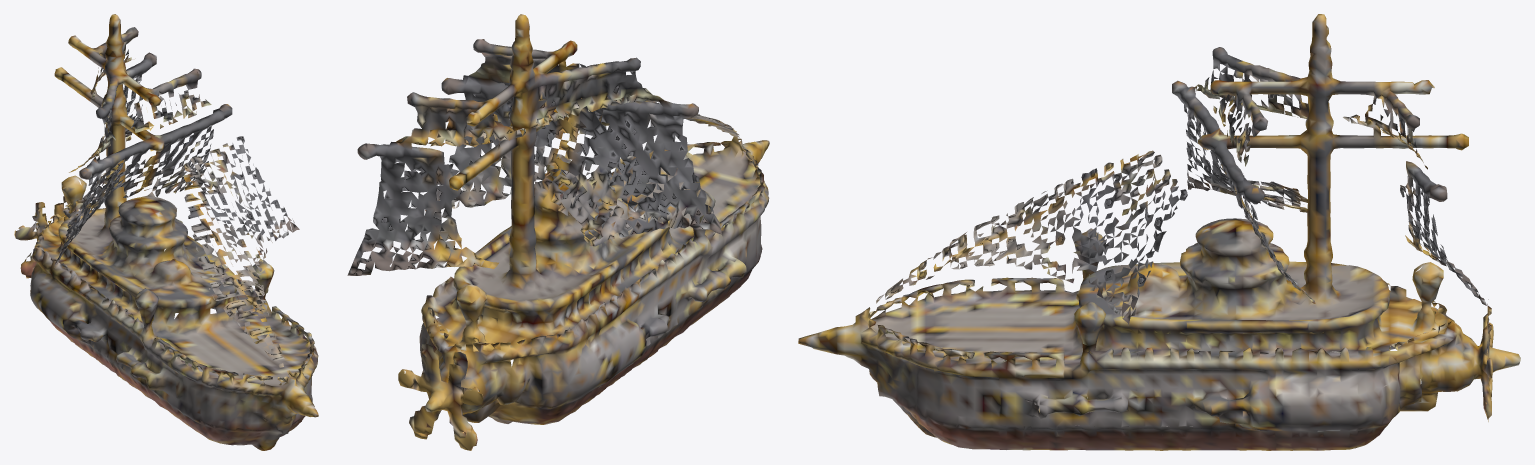
The model's file is mon3d.glb.
3 renders of one model, left to right at view 1: azimuth 30°, elevation 25°; view 2: azimuth 150°, elevation 25°; view 3: azimuth 270°, elevation 25°, orthographic. The views are drawn at different scales.
Bounding box in the file's own units: 0.9037 × 1.25 × 1.95.
